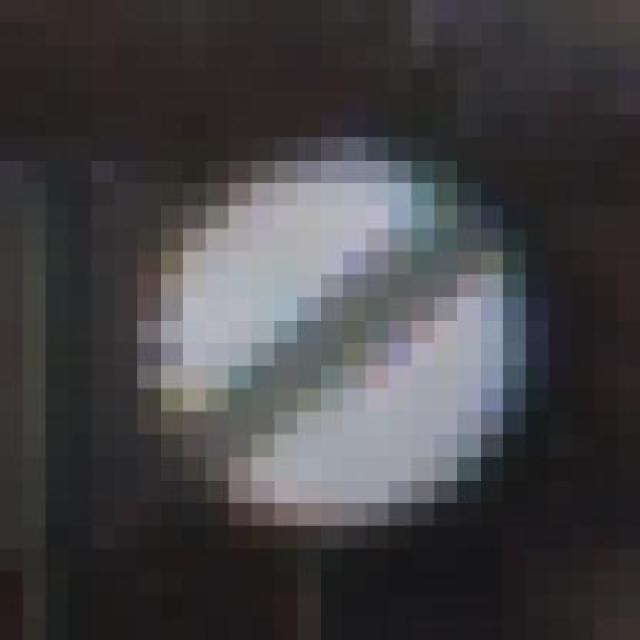End of all speed and passing limits: (137, 137, 549, 549)
